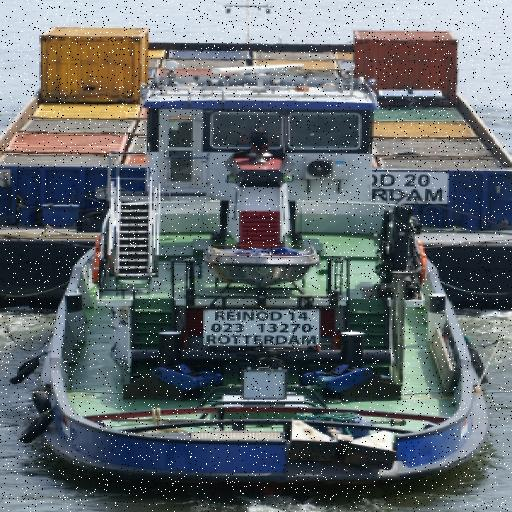tugboat: (28, 62, 501, 511)
